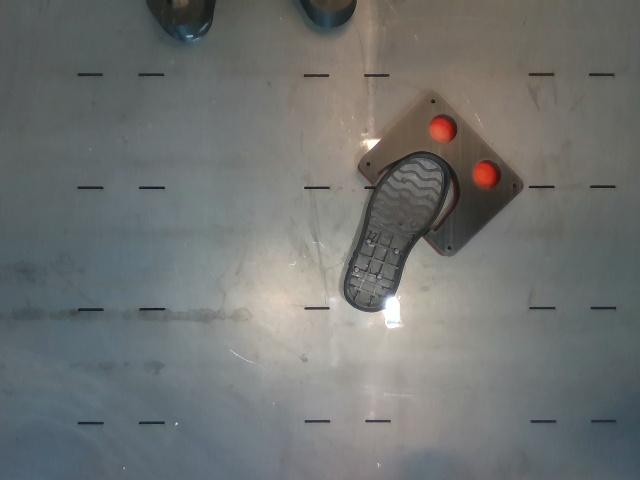shoes: (344, 155, 449, 312)
